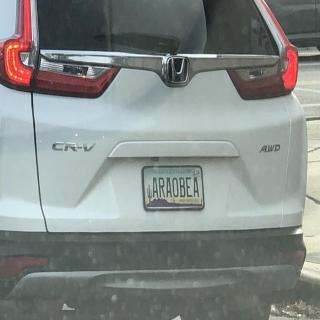license: (142, 166, 206, 212)
